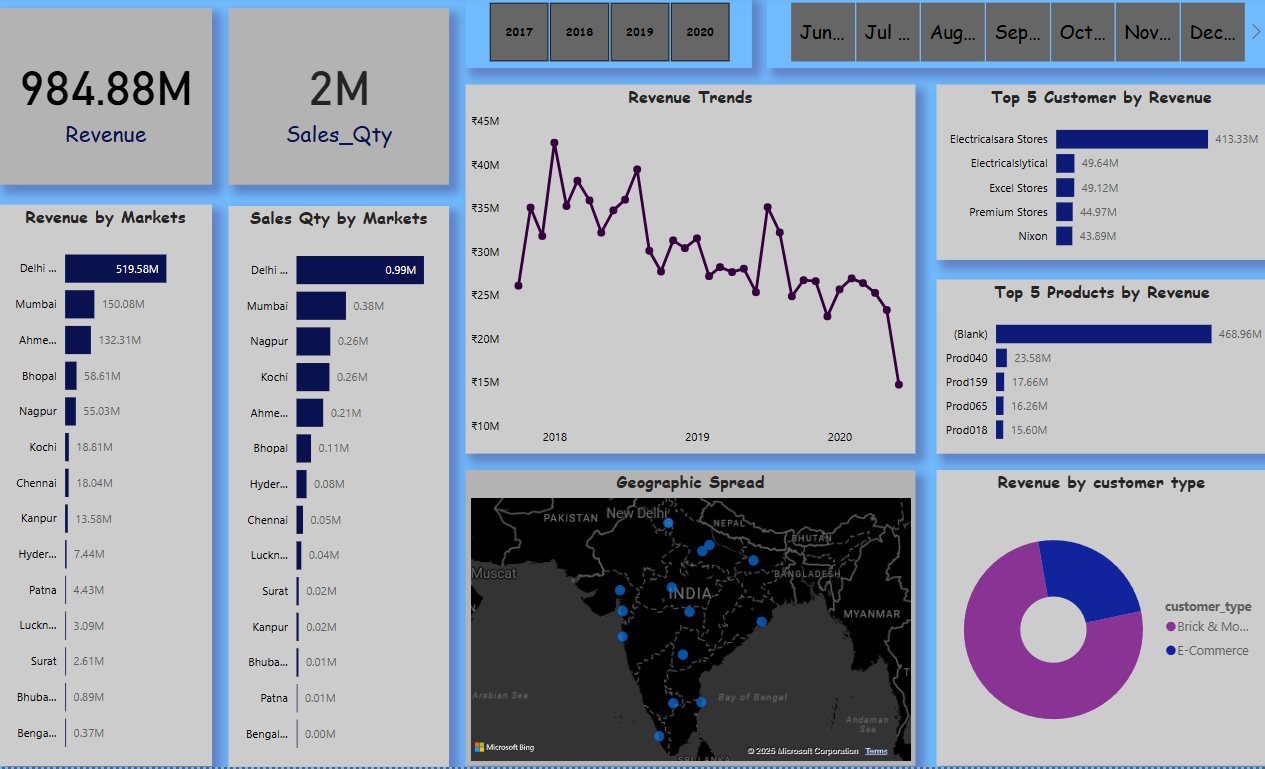

What the dashboard file says about the page in this screenshot:
{"tool":"powerbi","page":{"name":"Page 1","canvas":[1350,820],"ordinal":0},"visuals":[{"type":"card","fields":{"Values":["BaseMeasures.Revenue"]},"box":[0,0,226.7,188.3],"z":0},{"type":"card","fields":{"Values":["BaseMeasures.Sales_Qty"]},"box":[244.3,0,234.8,188.4],"z":1000},{"type":"barChart","title":"Revenue by Markets","fields":{"Y":["BaseMeasures.Revenue"],"Category":["sales markets.markets_name"]},"box":[0,222,226.8,597.3],"z":2000},{"type":"barChart","title":"Sales Qty by Markets","fields":{"Y":["BaseMeasures.Sales_Qty"],"Category":["sales markets.markets_name"]},"box":[244.1,223.4,234.6,596.8],"z":3000},{"type":"slicer","fields":{"Values":["sales date.year"]},"box":[496.3,0,304.8,76.6],"z":4000},{"type":"slicer","fields":{"Values":["sales date.cy_date"]},"box":[817.7,0,531.8,76.7],"z":5000},{"type":"barChart","title":"Top 5 Customer by Revenue","fields":{"Y":["BaseMeasures.Revenue"],"Category":["sales customers.custmer_name"]},"box":[995.7,94.1,352.7,373.4],"z":6000},{"type":"barChart","title":"Top 5 Products by Revenue","fields":{"Y":["BaseMeasures.Revenue"],"Category":["sales products.product_code"]},"box":[998.1,487.1,351.3,332.2],"z":7000},{"type":"lineChart","title":"Revenue Trends","fields":{"Y":["BaseMeasures.Revenue"],"Category":["sales date.cy_date.Variation.Date Hierarchy.Year","sales date.cy_date.Variation.Date Hierarchy.Quarter","sales date.cy_date.Variation.Date Hierarchy.Month","sales date.cy_date.Variation.Date Hierarchy.Day"]},"box":[496.7,94.2,479.1,373.7],"z":8000},{"type":"map","title":"Geographic Spread","fields":{"Category":["sales markets.markets_name"]},"box":[496.7,487.1,479.1,332.2],"z":9000}]}

Visuals, with their boxes in screenshot pixels (x1, y1, x2, y2), scaled from the page's 1350x820 canvas onto the 1265x769 screenshot:
card - BaseMeasures.Revenue: [0,0,212,177]
card - BaseMeasures.Sales_Qty: [229,0,449,177]
"Revenue by Markets" barChart: [0,208,213,768]
"Sales Qty by Markets" barChart: [229,210,449,768]
slicer - sales date.year: [465,0,751,72]
slicer - sales date.cy_date: [766,0,1264,72]
"Top 5 Customer by Revenue" barChart: [933,88,1264,438]
"Top 5 Products by Revenue" barChart: [935,457,1264,768]
"Revenue Trends" lineChart: [465,88,914,439]
"Geographic Spread" map: [465,457,914,768]
